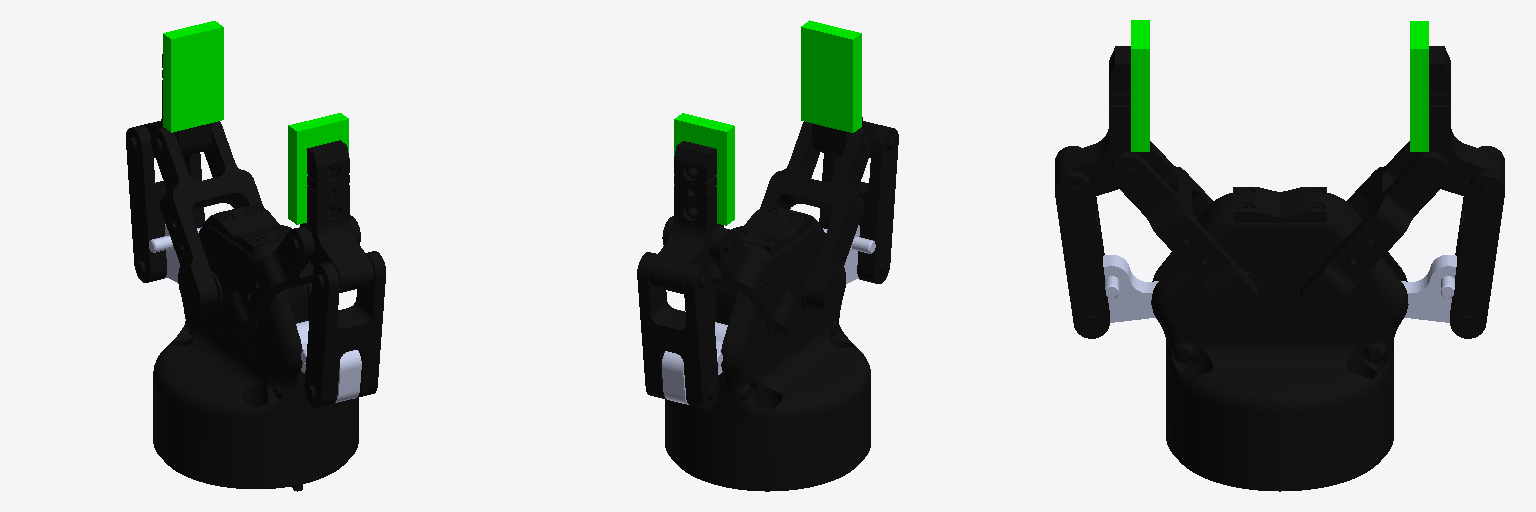
robot.urdf — robotiq_arg2f_85_model:
<?xml version="1.0" encoding="utf-8"?>
<!-- =================================================================================== -->
<!-- |    This document was autogenerated by xacro from src/robotiq_2f_85_gripper_visualization/urdf/robotiq_arg2f_85_model_2.xacro | -->
<!-- |    EDITING THIS FILE BY HAND IS NOT RECOMMENDED                                 | -->
<!-- =================================================================================== -->
<robot name="robotiq_arg2f_85_model">
  <link name="robotiq_arg2f_base_link">
    <inertial>
      <origin rpy="0 0 0" xyz="8.625E-08 -4.6583E-06 0.03145"/>
      <mass value="0.22652"/>
      <inertia ixx="0.00020005" ixy="-4.2442E-10" ixz="-2.9069E-10" iyy="0.00017832" iyz="-3.4402E-08" izz="0.00013478"/>
    </inertial>
    <visual>
      <origin rpy="0 0 0" xyz="0 0 0"/>
      <geometry>
        <mesh filename="./meshes/visual/robotiq_arg2f_85_base_link.obj"/>
      </geometry>
      <material name="">
        <color rgba="0.1 0.1 0.1 1"/>
      </material>
    </visual>
    <collision>
      <origin rpy="0 0 0" xyz="0 0 0"/>
      <geometry>
        <mesh filename="./meshes/collision/robotiq_arg2f_base_link.stl"/>
      </geometry>
    </collision>
  </link>
  <link name="left_outer_knuckle">
    <!--<inertial>
        <origin xyz="-0.000200000000003065 0.0199435877845359 0.0292245259211331" rpy="0 0 0" />
        <mass value="0.00853198276973456" />
        <inertia ixx="2.89328108496468E-06" ixy="-1.57935047237397E-19" ixz="-1.93980378593255E-19" iyy="1.86719750325683E-06" iyz="-1.21858577871576E-06" izz="1.21905238907251E-06" />
        </inertial> -->
    <visual>
      <origin rpy="0 0 0" xyz="0 0 0"/>
      <geometry>
        <mesh filename="./meshes/visual/robotiq_arg2f_85_outer_knuckle.obj"/>
      </geometry>
      <material name="">
        <color rgba="0.792156862745098 0.819607843137255 0.933333333333333 1"/>
      </material>
    </visual>
    <collision>
      <origin rpy="0 0 0" xyz="0 0 0"/>
      <geometry>
        <mesh filename="./meshes/collision/robotiq_arg2f_85_outer_knuckle.obj"/>
      </geometry>
    </collision>
  </link>
  <link name="left_outer_finger">
    <!--<inertial>
        <origin xyz="0.00030115855001899 0.0373907951953854 -0.0208027427000385" rpy="0 0 0" />
        <mass value="0.022614240507152" />
        <inertia ixx="1.52518312458174E-05" ixy="9.76583423954399E-10" ixz="-5.43838577022588E-10" iyy="6.17694243867776E-06" iyz="6.78636130740228E-06" izz="1.16494917907219E-05" />
        </inertial> -->
    <visual>
      <origin rpy="0 0 0" xyz="0 0 0"/>
      <geometry>
        <mesh filename="./meshes/visual/robotiq_arg2f_85_outer_finger.obj"/>
      </geometry>
      <material name="">
        <color rgba="0.1 0.1 0.1 1"/>
      </material>
    </visual>
    <collision>
      <origin rpy="0 0 0" xyz="0 0 0"/>
      <geometry>
        <mesh filename="./meshes/collision/robotiq_arg2f_85_outer_finger.obj"/>
      </geometry>
    </collision>
  </link>
  <link name="left_inner_finger">
    <!--<inertial>
        <origin xyz="0.000299999999999317 0.0160078233491243 -0.0136945669206257" rpy="0 0 0" />
        <mass value="0.0104003125914103" />
        <inertia ixx="2.71909453810972E-06" ixy="1.35402465472579E-21" ixz="-7.1817349065269E-22" iyy="7.69100314106116E-07" iyz="6.74715432769696E-07" izz="2.30315190420171E-06" />
        </inertial> -->
    <visual>
      <origin rpy="0 0 0" xyz="0 0 0"/>
      <geometry>
        <mesh filename="./meshes/visual/robotiq_arg2f_85_inner_finger.stl"/>
      </geometry>
      <material name="">
        <color rgba="0.1 0.1 0.1 1"/>
      </material>
    </visual>
    <collision>
      <origin rpy="0 0 0" xyz="0 0 0"/>
      <geometry>
        <mesh filename="./meshes/collision/robotiq_arg2f_85_inner_finger.obj"/>
      </geometry>
    </collision>
  </link>
  <link name="left_inner_finger_pad">
    <visual>
      <origin rpy="0 0 0" xyz="0 0 0"/>
      <geometry>
        <!-- <box size="0.022 0.00635 0.0375"/>  -->
        <mesh filename="./meshes/visual/robotiq_arg2f_85_pad.stl"/>
      </geometry>
      <material name="">
        <color rgba="0.0 1.0 0.0 1.0"/>
      </material>
    </visual>
    <collision>
      <origin rpy="0 0 0" xyz="0 0 0"/>
      <geometry>
        <!--  <box size="0.022 0.00635 0.0375"/>  -->
        <mesh filename="./meshes/visual/robotiq_arg2f_85_pad.stl"/>
      </geometry>
      <material name="">
        <color rgba="0.0 1.0 0.0 1.0"/>
      </material>
    </collision>
  </link>
  <link name="left_inner_knuckle">
    <!--<inertial>
        <origin xyz="0.000123011831763771 0.0507850843201817 0.00103968640075166" rpy="0 0 0" />
       <mass value="0.0271177346495152" />
        <inertia ixx="2.61910379223783E-05" ixy="-2.43616858946494E-07" ixz="-6.37789906117123E-09" iyy="2.8270243746167E-06" iyz="-5.37200748039765E-07" izz="2.83695868220296E-05" />
        </inertial> -->
    <visual>
      <origin rpy="0 0 0" xyz="0 0 0"/>
      <geometry>
        <mesh filename="./meshes/visual/robotiq_arg2f_85_inner_knuckle.obj"/>
      </geometry>
      <material name="">
        <color rgba="0.1 0.1 0.1 1"/>
      </material>
    </visual>
    <collision>
      <origin rpy="0 0 0" xyz="0 0 0"/>
      <geometry>
        <mesh filename="./meshes/collision/robotiq_arg2f_85_inner_knuckle.obj"/>
      </geometry>
    </collision>
  </link>
  <link name="right_outer_knuckle">
    <!--<inertial>
        <origin xyz="-0.000200000000003065 0.0199435877845359 0.0292245259211331" rpy="0 0 0" />
        <mass value="0.00853198276973456" />
        <inertia ixx="2.89328108496468E-06" ixy="-1.57935047237397E-19" ixz="-1.93980378593255E-19" iyy="1.86719750325683E-06" iyz="-1.21858577871576E-06" izz="1.21905238907251E-06" />
        </inertial> -->
    <visual>
      <origin rpy="0 0 0" xyz="0 0 0"/>
      <geometry>
        <mesh filename="./meshes/visual/robotiq_arg2f_85_outer_knuckle.stl"/>
      </geometry>
      <material name="">
        <color rgba="0.792156862745098 0.819607843137255 0.933333333333333 1"/>
      </material>
    </visual>
    <collision>
      <origin rpy="0 0 0" xyz="0 0 0"/>
      <geometry>
        <mesh filename="./meshes/collision/robotiq_arg2f_85_outer_knuckle.obj"/>
      </geometry>
    </collision>
  </link>
  <link name="right_outer_finger">
    <!--<inertial>
        <origin xyz="0.00030115855001899 0.0373907951953854 -0.0208027427000385" rpy="0 0 0" />
        <mass value="0.022614240507152" />
        <inertia ixx="1.52518312458174E-05" ixy="9.76583423954399E-10" ixz="-5.43838577022588E-10" iyy="6.17694243867776E-06" iyz="6.78636130740228E-06" izz="1.16494917907219E-05" />
        </inertial> -->
    <visual>
      <origin rpy="0 0 0" xyz="0 0 0"/>
      <geometry>
        <mesh filename="./meshes/visual/robotiq_arg2f_85_outer_finger.obj"/>
      </geometry>
      <material name="">
        <color rgba="0.1 0.1 0.1 1"/>
      </material>
    </visual>
    <collision>
      <origin rpy="0 0 0" xyz="0 0 0"/>
      <geometry>
        <mesh filename="./meshes/collision/robotiq_arg2f_85_outer_finger.obj"/>
      </geometry>
    </collision>
  </link>
  <link name="right_inner_finger">
    <!--<inertial>
        <origin xyz="0.000299999999999317 0.0160078233491243 -0.0136945669206257" rpy="0 0 0" />
        <mass value="0.0104003125914103" />
        <inertia ixx="2.71909453810972E-06" ixy="1.35402465472579E-21" ixz="-7.1817349065269E-22" iyy="7.69100314106116E-07" iyz="6.74715432769696E-07" izz="2.30315190420171E-06" />
        </inertial> -->
    <visual>
      <origin rpy="0 0 0" xyz="0 0 0"/>
      <geometry>
        <mesh filename="./meshes/visual/robotiq_arg2f_85_inner_finger.stl"/>
      </geometry>
      <material name="">
        <color rgba="0.1 0.1 0.1 1"/>
      </material>
    </visual>
    <collision>
      <origin rpy="0 0 0" xyz="0 0 0"/>
      <geometry>
        <mesh filename="./meshes/collision/robotiq_arg2f_85_inner_finger.obj"/>
      </geometry>
    </collision>
  </link>
  <link name="right_inner_finger_pad">
    <visual>
      <origin rpy="0 0 0" xyz="0 0 0"/>
      <geometry>
        <!-- <box size="0.022 0.00635 0.0375"/>  -->
        <mesh filename="./meshes/visual/robotiq_arg2f_85_pad.stl"/>
      </geometry>
      <material name="">
        <color rgba="0.0 1.0 0.0 1.0"/>
      </material>
    </visual>
    <collision>
      <origin rpy="0 0 0" xyz="0 0 0"/>
      <geometry>
        <!--  <box size="0.022 0.00635 0.0375"/>  -->
        <mesh filename="./meshes/visual/robotiq_arg2f_85_pad.stl"/>
      </geometry>
      <material name="">
        <color rgba="0.0 1.0 0.0 1.0"/>
      </material>
    </collision>
  </link>
  <link name="right_inner_knuckle">
    <!--<inertial>
        <origin xyz="0.000123011831763771 0.0507850843201817 0.00103968640075166" rpy="0 0 0" />
       <mass value="0.0271177346495152" />
        <inertia ixx="2.61910379223783E-05" ixy="-2.43616858946494E-07" ixz="-6.37789906117123E-09" iyy="2.8270243746167E-06" iyz="-5.37200748039765E-07" izz="2.83695868220296E-05" />
        </inertial> -->
    <visual>
      <origin rpy="0 0 0" xyz="0 0 0"/>
      <geometry>
        <mesh filename="./meshes/visual/robotiq_arg2f_85_inner_knuckle.obj"/>
      </geometry>
      <material name="">
        <color rgba="0.1 0.1 0.1 1"/>
      </material>
    </visual>
    <collision>
      <origin rpy="0 0 0" xyz="0 0 0"/>
      <geometry>
        <mesh filename="./meshes/collision/robotiq_arg2f_85_inner_knuckle.stl"/>
      </geometry>
    </collision>
  </link>
  <joint name="finger_joint" type="revolute">
    <origin rpy="0 0 3.14159265359" xyz="0 -0.0306011 0.054904"/>
    <parent link="robotiq_arg2f_base_link"/>
    <child link="left_outer_knuckle"/>
    <axis xyz="1 0 0"/>
    <limit effort="1000" lower="0" upper="0.8" velocity="2.0"/>
  </joint>
  <joint name="left_outer_finger_joint" type="fixed">
    <origin rpy="0 0 0" xyz="0 0.0315 -0.0041"/>
    <parent link="left_outer_knuckle"/>
    <child link="left_outer_finger"/>
    <axis xyz="1 0 0"/>
  </joint>
  <joint name="left_inner_knuckle_joint" type="revolute">
    <!-- <origin xyz="0 ${reflect * -0.0127} 0.06142" rpy="${pi / 2 + .725} 0 ${(reflect - 1) * pi / 2}" /> -->
    <origin rpy="0 0 3.14159265359" xyz="0 -0.0127 0.06142"/>
    <parent link="robotiq_arg2f_base_link"/>
    <child link="left_inner_knuckle"/>
    <axis xyz="1 0 0"/>
    <limit effort="1000" lower="0" upper="0.8757" velocity="2.0"/>
    <mimic joint="finger_joint" multiplier="1" offset="0"/>
  </joint>
  <joint name="left_inner_finger_joint" type="revolute">
    <origin rpy="0 0 0" xyz="0 0.0061 0.0471"/>
    <parent link="left_outer_finger"/>
    <child link="left_inner_finger"/>
    <axis xyz="1 0 0"/>
    <limit effort="1000" lower="0" upper="0.8757" velocity="2.0"/>
    <mimic joint="finger_joint" multiplier="-1" offset="0"/>
  </joint>
  <joint name="left_inner_finger_pad_joint" type="fixed">
    <origin rpy="0 0 0" xyz="0 -0.0220203446692936 0.03242"/>
    <parent link="left_inner_finger"/>
    <child link="left_inner_finger_pad"/>
    <axis xyz="0 0 1"/>
  </joint>
  <joint name="right_outer_knuckle_joint" type="revolute">
    <origin rpy="0 0 0" xyz="0 0.0306011 0.054904"/>
    <parent link="robotiq_arg2f_base_link"/>
    <child link="right_outer_knuckle"/>
    <axis xyz="1 0 0"/>
    <limit effort="1000" lower="0" upper="0.81" velocity="2.0"/>
    <mimic joint="finger_joint" multiplier="1" offset="0"/>
  </joint>
  <joint name="right_outer_finger_joint" type="fixed">
    <origin rpy="0 0 0" xyz="0 0.0315 -0.0041"/>
    <parent link="right_outer_knuckle"/>
    <child link="right_outer_finger"/>
    <axis xyz="1 0 0"/>
  </joint>
  <joint name="right_inner_knuckle_joint" type="revolute">
    <!-- <origin xyz="0 ${reflect * -0.0127} 0.06142" rpy="${pi / 2 + .725} 0 ${(reflect - 1) * pi / 2}" /> -->
    <origin rpy="0 0 0.0" xyz="0 0.0127 0.06142"/>
    <parent link="robotiq_arg2f_base_link"/>
    <child link="right_inner_knuckle"/>
    <axis xyz="1 0 0"/>
    <limit effort="1000" lower="0" upper="0.8757" velocity="2.0"/>
    <mimic joint="finger_joint" multiplier="1" offset="0"/>
  </joint>
  <joint name="right_inner_finger_joint" type="revolute">
    <origin rpy="0 0 0" xyz="0 0.0061 0.0471"/>
    <parent link="right_outer_finger"/>
    <child link="right_inner_finger"/>
    <axis xyz="1 0 0"/>
    <limit effort="1000" lower="0" upper="0.8757" velocity="2.0"/>
    <mimic joint="finger_joint" multiplier="-1" offset="0"/>
  </joint>
  <joint name="right_inner_finger_pad_joint" type="fixed">
    <origin rpy="0 0 0" xyz="0 -0.0220203446692936 0.03242"/>
    <parent link="right_inner_finger"/>
    <child link="right_inner_finger_pad"/>
    <axis xyz="0 0 1"/>
  </joint>
  <transmission name="finger_joint_trans">
    <type>transmission_interface/SimpleTransmission</type>
    <joint name="finger_joint">
      <hardwareInterface>PositionJointInterface</hardwareInterface>
    </joint>
    <actuator name="finger_joint_motor">
      <mechanicalReduction>1</mechanicalReduction>
    </actuator>
  </transmission>
</robot>

--- What the picture shows (computed from the rendered views, not written in the file) ---
Views: 3 orthographic renders of the robot side by side, from view 1: azimuth 30°, elevation 25°; view 2: azimuth 150°, elevation 25°; view 3: azimuth 270°, elevation 25°.
Model robotiq_arg2f_85_model with 11 links and 10 joints (6 revolute, 4 fixed), rooted at robotiq_arg2f_base_link, posed all joints at 0.
Links seen in each view (by area): view 1: robotiq_arg2f_base_link, right_inner_knuckle, left_outer_finger, left_inner_finger, right_inner_finger_pad, right_outer_finger, left_inner_knuckle, left_inner_finger_pad, left_outer_knuckle, right_inner_finger, right_outer_knuckle; view 2: robotiq_arg2f_base_link, left_inner_knuckle, right_outer_finger, right_inner_finger, left_inner_finger_pad, left_outer_finger, right_inner_knuckle, right_inner_finger_pad, right_outer_knuckle, left_inner_finger, left_outer_knuckle; view 3: robotiq_arg2f_base_link, left_inner_knuckle, right_inner_knuckle, left_outer_finger, right_outer_finger, left_inner_finger, right_inner_finger, left_inner_finger_pad, right_inner_finger_pad, right_outer_knuckle, left_outer_knuckle.
Link boxes in pixels (x1=…): robotiq_arg2f_base_link: x1=153, y1=204, x2=358, y2=491; right_inner_knuckle: x1=151, y1=121, x2=263, y2=310; left_outer_finger: x1=304, y1=251, x2=385, y2=407; left_inner_finger: x1=300, y1=140, x2=373, y2=292; right_inner_finger_pad: x1=163, y1=21, x2=223, y2=132; right_outer_finger: x1=126, y1=125, x2=204, y2=282; left_inner_knuckle: x1=219, y1=215, x2=360, y2=335; left_inner_finger_pad: x1=288, y1=113, x2=348, y2=224; left_outer_knuckle: x1=296, y1=321, x2=361, y2=402; right_inner_finger: x1=143, y1=54, x2=211, y2=157; right_outer_knuckle: x1=149, y1=224, x2=201, y2=282; robotiq_arg2f_base_link: x1=665, y1=205, x2=870, y2=491; left_inner_knuckle: x1=760, y1=121, x2=873, y2=311; right_outer_finger: x1=637, y1=252, x2=718, y2=409; right_inner_finger: x1=649, y1=141, x2=723, y2=293; left_inner_finger_pad: x1=801, y1=20, x2=861, y2=132; left_outer_finger: x1=819, y1=126, x2=898, y2=283; right_inner_knuckle: x1=662, y1=216, x2=804, y2=337; right_inner_finger_pad: x1=674, y1=113, x2=734, y2=225; right_outer_knuckle: x1=662, y1=322, x2=727, y2=404; left_inner_finger: x1=812, y1=117, x2=882, y2=157; left_outer_knuckle: x1=823, y1=225, x2=875, y2=283; robotiq_arg2f_base_link: x1=1151, y1=187, x2=1408, y2=491; left_inner_knuckle: x1=1111, y1=141, x2=1259, y2=318; right_inner_knuckle: x1=1300, y1=141, x2=1448, y2=318; left_outer_finger: x1=1055, y1=146, x2=1109, y2=338; right_outer_finger: x1=1450, y1=146, x2=1504, y2=338; left_inner_finger: x1=1055, y1=46, x2=1145, y2=196; right_inner_finger: x1=1414, y1=46, x2=1504, y2=196; left_inner_finger_pad: x1=1131, y1=20, x2=1149, y2=151; right_inner_finger_pad: x1=1410, y1=21, x2=1428, y2=151; right_outer_knuckle: x1=1401, y1=255, x2=1456, y2=322; left_outer_knuckle: x1=1103, y1=255, x2=1158, y2=322.
Bounding box of the posed robot: 0.075 × 0.1484 × 0.1539 m (x, y, z).
Meshes: 7 distinct files referenced, 11 mesh visuals loaded (1 binary STL, 2 ASCII STL, 4 OBJ).
